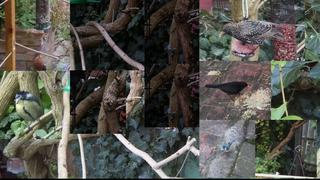blackbird: (204, 81, 251, 102)
blue tit: (14, 91, 43, 131), (220, 140, 235, 159)
starling: (219, 20, 285, 45)
